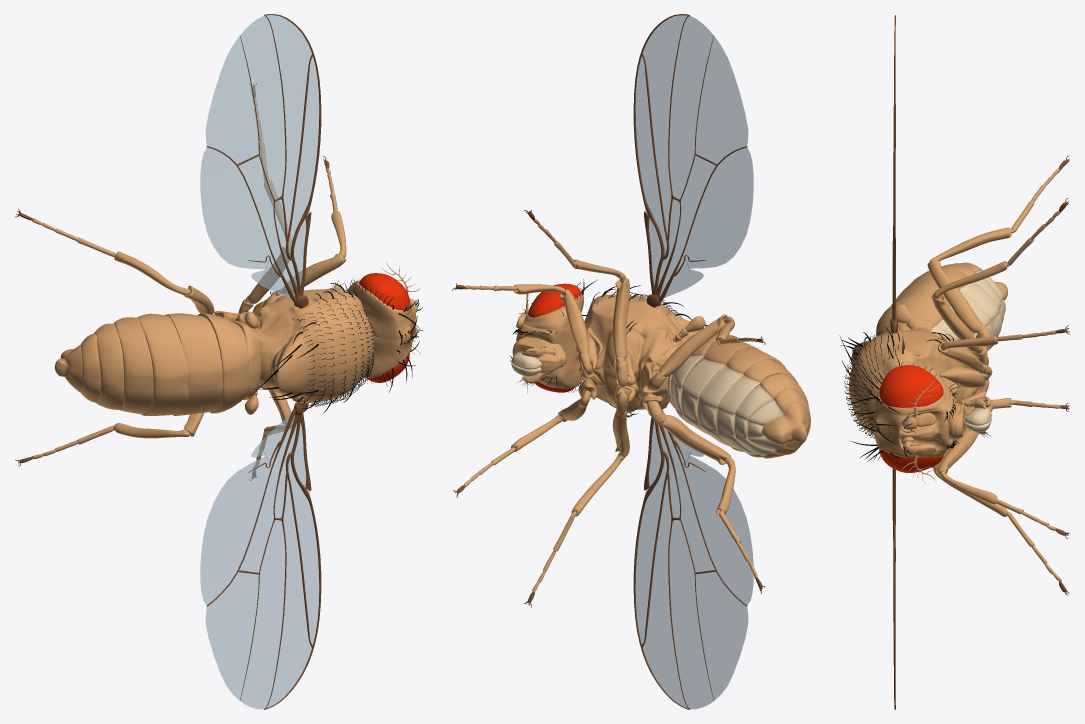
The model's file is flybody-fly.glb.
3 views of the same model, side by side, from view 1: azimuth 30°, elevation 25°; view 2: azimuth 150°, elevation 25°; view 3: azimuth 270°, elevation 25° (orthographic).
Visible parts, largest first — view 1: wing_left_membrane, wing_right_membrane, thorax, abdomen_3, wing_right_brown, abdomen_4, wing_left_brown, head, abdomen_5, abdomen_2, abdomen_6, thorax_black (+8 smaller); view 2: wing_left_membrane, wing_right_membrane, thorax, wing_left_brown, wing_right_brown, head, abdomen_4_lower, abdomen_5_lower, abdomen_8, femur_T3_right, femur_T2_left, femur_T3_left (+14 smaller); view 3: thorax, head, head_red, femur_T3_left, thorax_black, abdomen_2, wing_left_brown, femur_T2_left, abdomen_4_lower, femur_T1_right, tibia_T3_left, head_black (+14 smaller).
Boxes of the visible parts, <box> form: wing_left_membrane: <box>200,15,319,298</box>; wing_right_membrane: <box>200,414,319,709</box>; thorax: <box>237,287,374,403</box>; abdomen_3: <box>165,313,222,415</box>; wing_right_brown: <box>206,402,321,709</box>; abdomen_4: <box>137,313,188,415</box>; wing_left_brown: <box>206,14,321,308</box>; head: <box>347,280,415,377</box>; abdomen_5: <box>113,317,153,414</box>; abdomen_2: <box>198,313,248,413</box>; abdomen_6: <box>94,323,123,409</box>; thorax_black: <box>251,283,374,413</box>; wing_left_membrane: <box>635,15,753,297</box>; wing_right_membrane: <box>635,421,753,709</box>; thorax: <box>576,294,702,412</box>; wing_left_brown: <box>633,14,747,307</box>; wing_right_brown: <box>633,409,747,709</box>; head: <box>516,294,583,388</box>; abdomen_4_lower: <box>697,365,743,448</box>; abdomen_5_lower: <box>716,374,760,455</box>; abdomen_8: <box>762,403,809,449</box>; femur_T3_right: <box>647,401,731,464</box>; femur_T2_left: <box>613,278,629,387</box>; femur_T3_left: <box>647,314,727,390</box>; thorax: <box>849,327,973,435</box>; head: <box>873,374,953,457</box>; head_red: <box>879,365,943,472</box>; femur_T3_left: <box>927,259,990,348</box>; thorax_black: <box>839,327,953,438</box>; abdomen_2: <box>876,294,948,336</box>; wing_left_brown: <box>890,15,897,333</box>; femur_T2_left: <box>931,294,988,365</box>; abdomen_4_lower: <box>959,282,1001,349</box>; femur_T1_right: <box>937,396,993,474</box>; tibia_T3_left: <box>930,227,1012,261</box>; head_black: <box>848,362,959,461</box>.
Bounding box in the file's own units: 0.3012 × 0.6116 × 0.1856.
